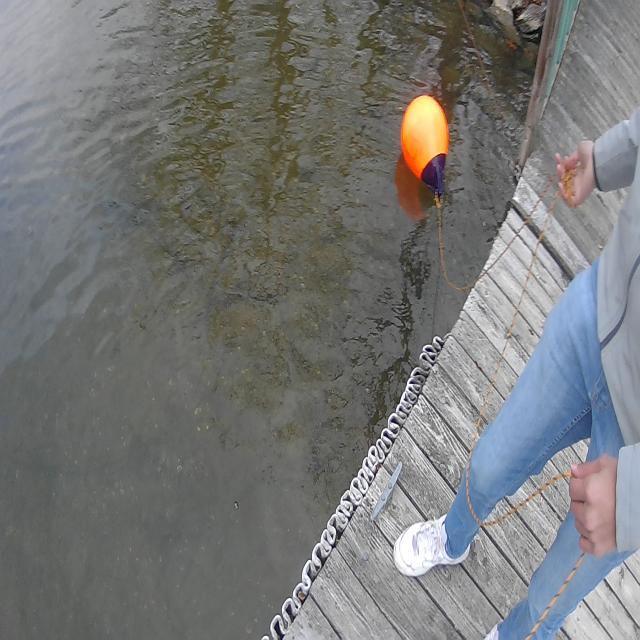Buoy: (396, 87, 453, 203)
